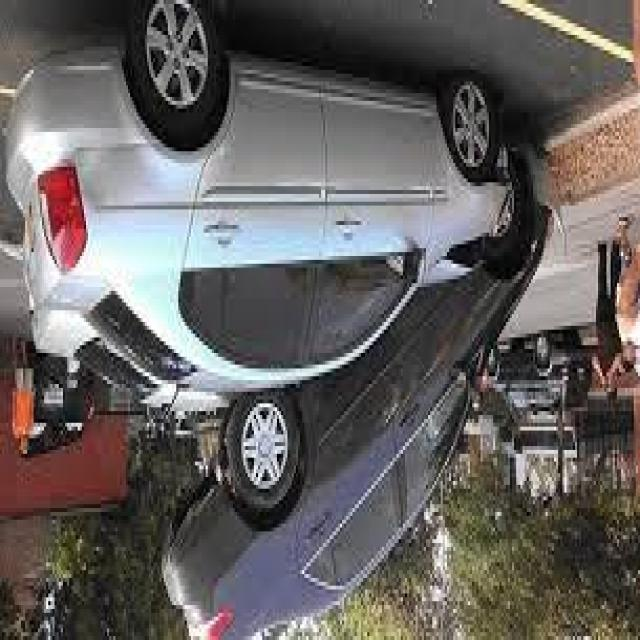severe: (0, 0, 567, 640)
